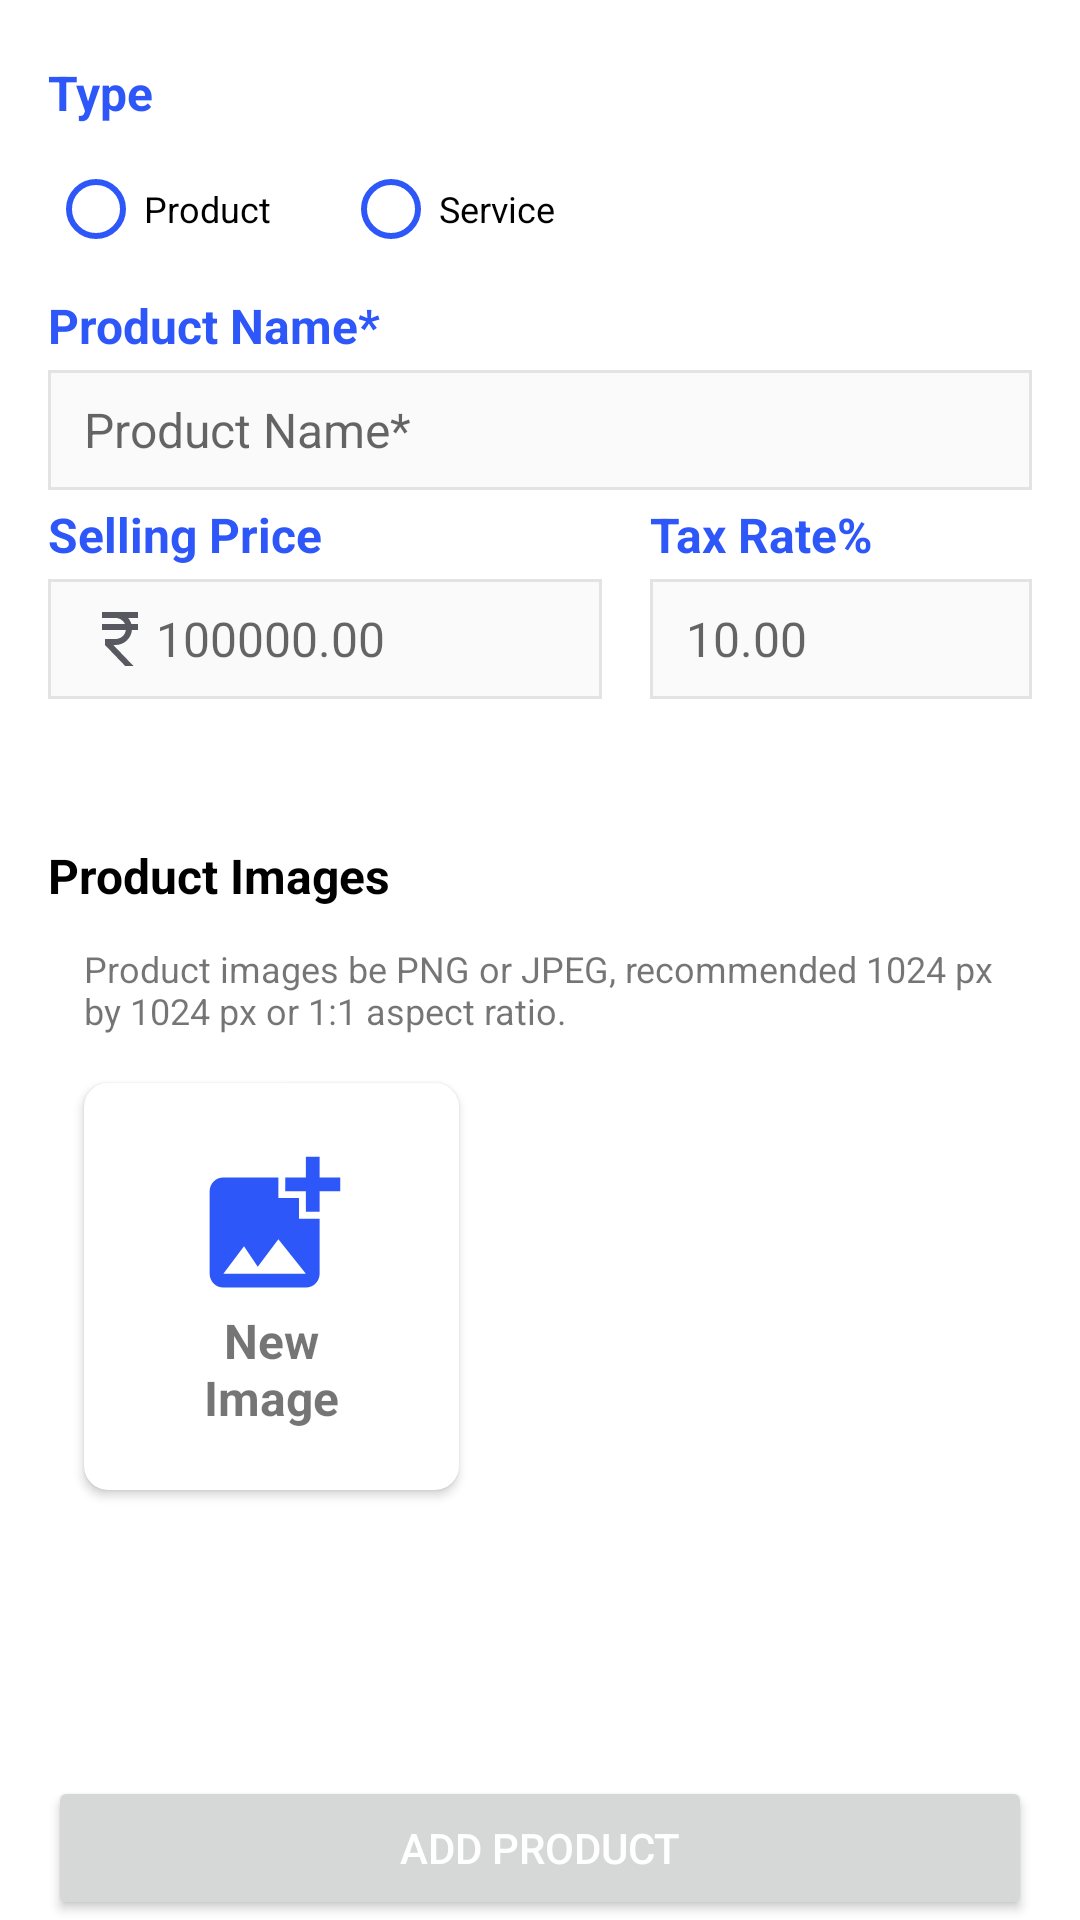

Icon bounding boxes for this 1080×1920 phone screenshot, format (x1, y1, x2, y2):
add photo alternate: (209, 1156, 341, 1288)
